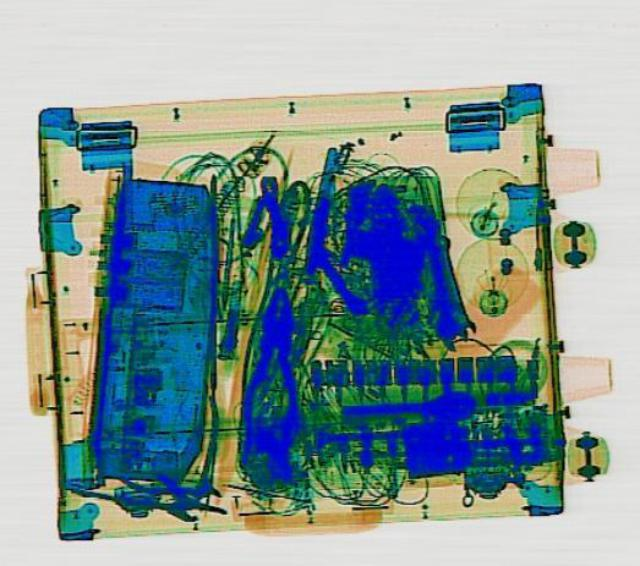Pliers: (95, 391, 273, 526), (234, 284, 308, 457)
Wrench: (422, 232, 468, 350)
